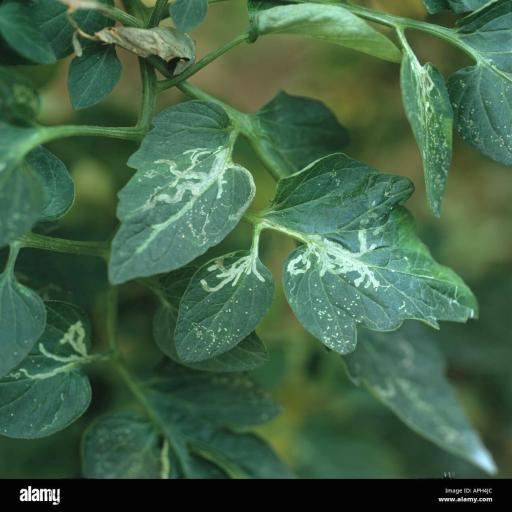Leaf Miner: (277, 150, 482, 356), (104, 99, 256, 285), (171, 246, 275, 364)
